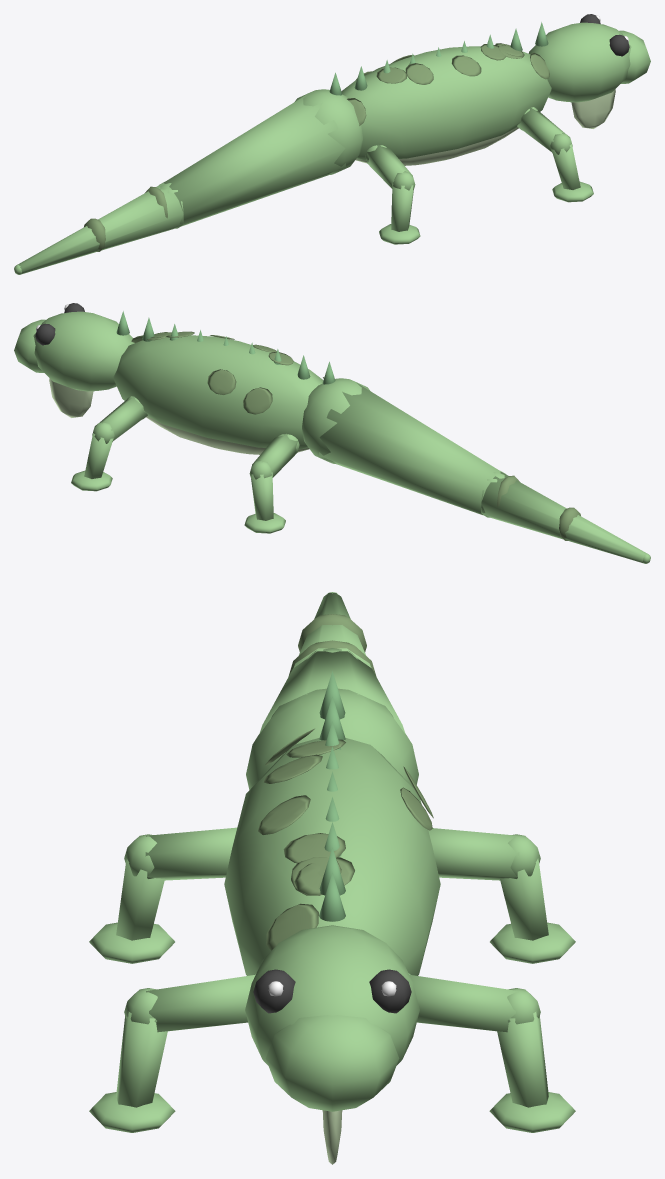
Rendered from green-iguana.glb.
3 views of the same model, one above another, from view 1: azimuth 30°, elevation 25°; view 2: azimuth 150°, elevation 25°; view 3: azimuth 270°, elevation 25° (orthographic). The views are drawn at different scales.
Parts seen in each view (by area): view 1: e.019, cone, e.012, e.037, e.027; view 2: e.019, cone, e.012, e.042, e.032; view 3: cone, e.012, e.019, e.027, e.032, e.037, e.042.
Part boxes in pixels (left/top/right/bottom): e.019: left=14, top=89, right=362, bottom=274; cone: left=329, top=22, right=551, bottom=165; e.012: left=528, top=14, right=650, bottom=128; e.037: left=365, top=144, right=420, bottom=244; e.027: left=517, top=107, right=593, bottom=202; e.019: left=302, top=378, right=650, bottom=563; cone: left=113, top=311, right=335, bottom=454; e.012: left=14, top=303, right=134, bottom=417; e.042: left=244, top=433, right=299, bottom=533; e.032: left=71, top=396, right=147, bottom=491; cone: left=224, top=671, right=440, bottom=975; e.012: left=245, top=925, right=419, bottom=1164; e.019: left=246, top=592, right=418, bottom=789; e.027: left=89, top=973, right=256, bottom=1132; e.032: left=408, top=973, right=575, bottom=1132; e.037: left=89, top=827, right=236, bottom=963; e.042: left=428, top=828, right=575, bottom=963.
Bounding box in the file's own units: 1.35 × 0.28 × 0.45.
